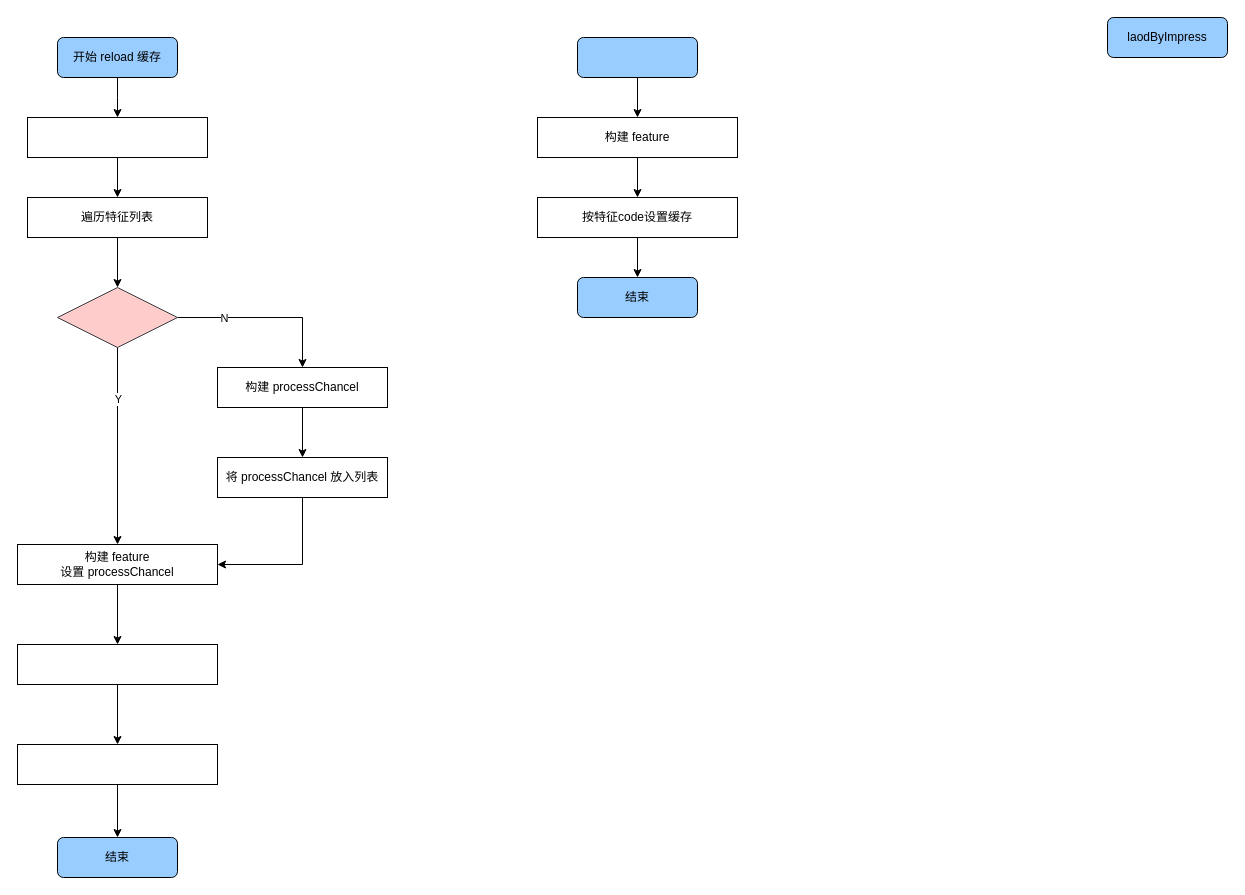
Image size: 1245x895. Some labels were removed from this diagram. Here are the shapes that lost their labels. From the top down, the centre of each, then its label:
At pixel 637 57: "开始 update 缓存".
At pixel 117 137: "一次性查出所有特征".
At pixel 117 317: "是否基础特征".
At pixel 117 664: "将 feature 放入FeatureCache".
At pixel 117 764: "遍历 processChancel 列表 填充前置特征信息".
